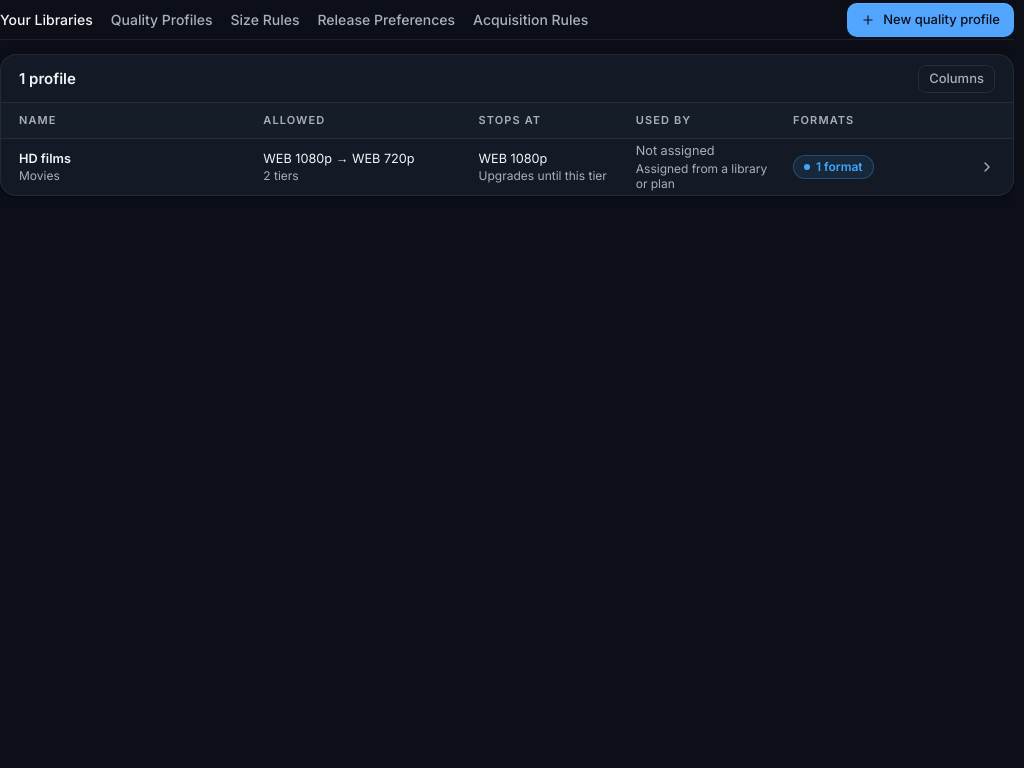
Test: Effective release preferences on a saved profile › says why when the plan could not be loaded and shows no plan
The image size is (1024, 768).
Click the text "HD films" at [45, 158], box 19,151 -> 71,166
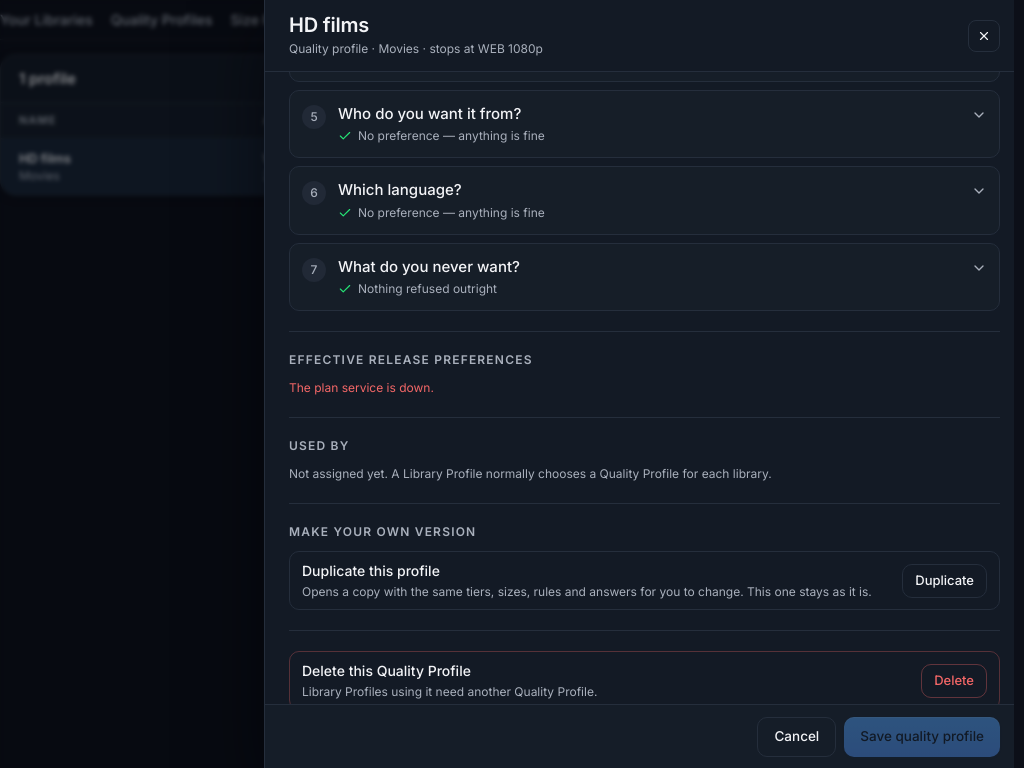
Result: the message reads "The plan service is down." at 289,380 -> 434,395
